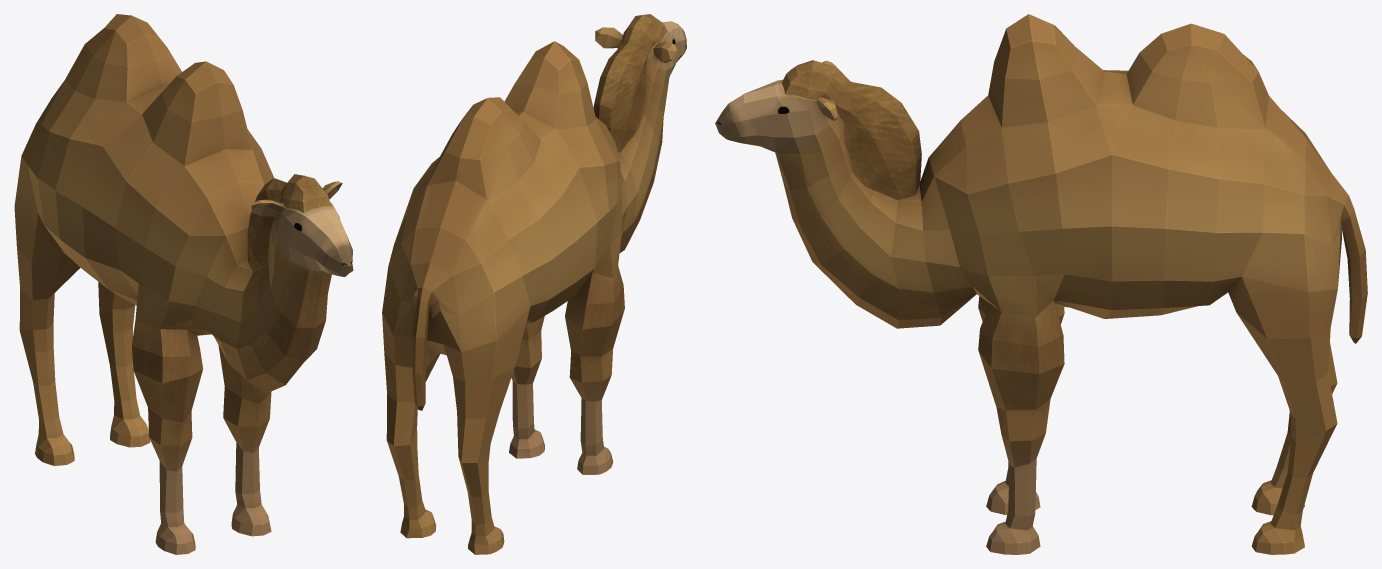
3 views of the same model, side by side, from view 1: azimuth 30°, elevation 25°; view 2: azimuth 150°, elevation 25°; view 3: azimuth 270°, elevation 25° (orthographic). The views are drawn at different scales.
Parts seen in each view (by area): view 1: BactrianCamel_Mesh; view 2: BactrianCamel_Mesh; view 3: BactrianCamel_Mesh.
Part boxes in pixels (x1,y1,x2,y2): BactrianCamel_Mesh: (14, 14, 353, 554); BactrianCamel_Mesh: (382, 14, 686, 554); BactrianCamel_Mesh: (715, 14, 1367, 554).
Size of the model in its own units: 3.83 by 9.73 by 11.22.
Materials: 1 (1 with a texture image).
